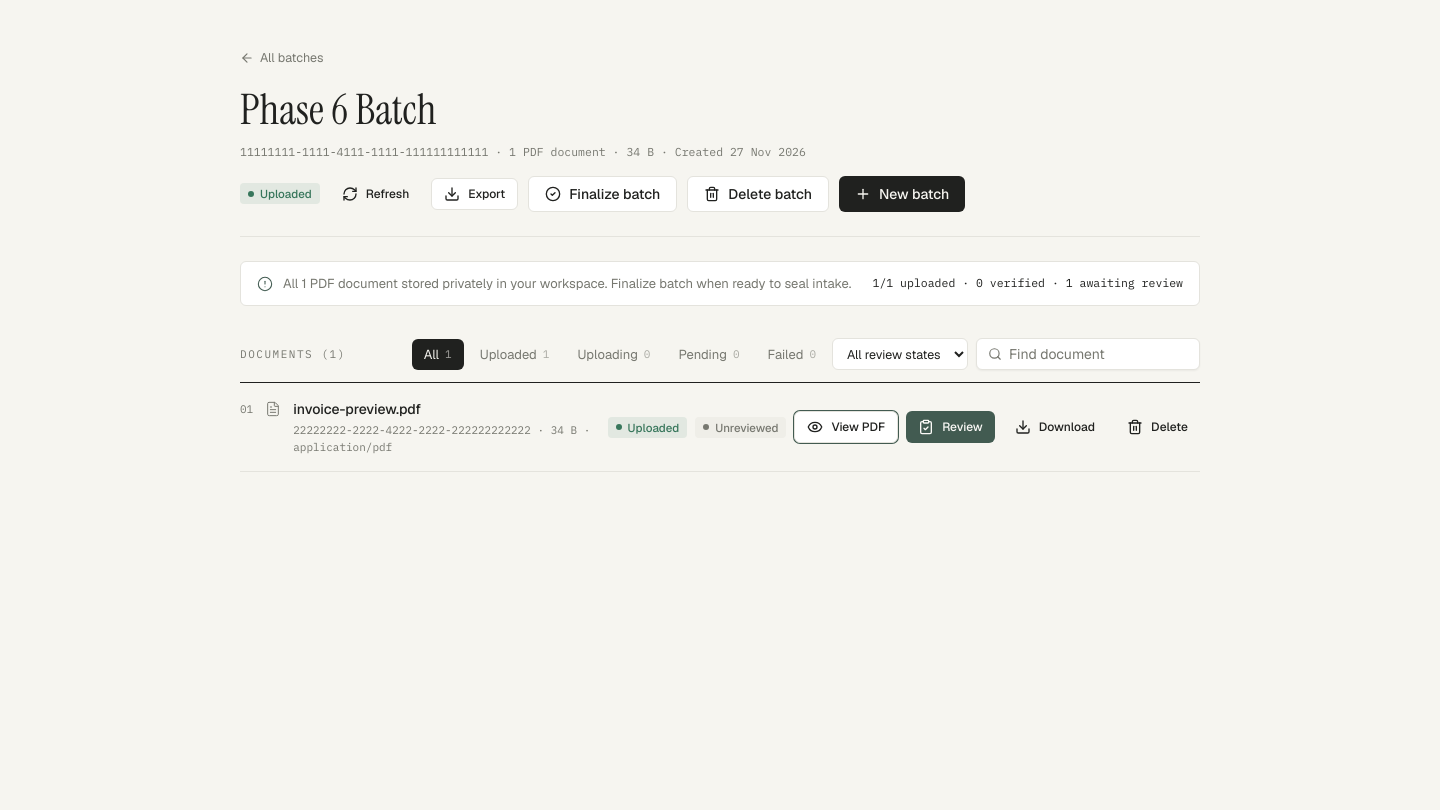
Test: Phase 6 — Document access UI (preview, unavailable recovery, search, single delete, focus) › opens inline PDF preview modal, handles missing/unavailable B2 objects cleanly with Retry, and restores focus
The image size is (1440, 810).
Later steps or results of the test are not shown.
Step 1. Click the button with aria-label "View invoice-preview.pdf" → (846, 427), box [794,411,898,443]
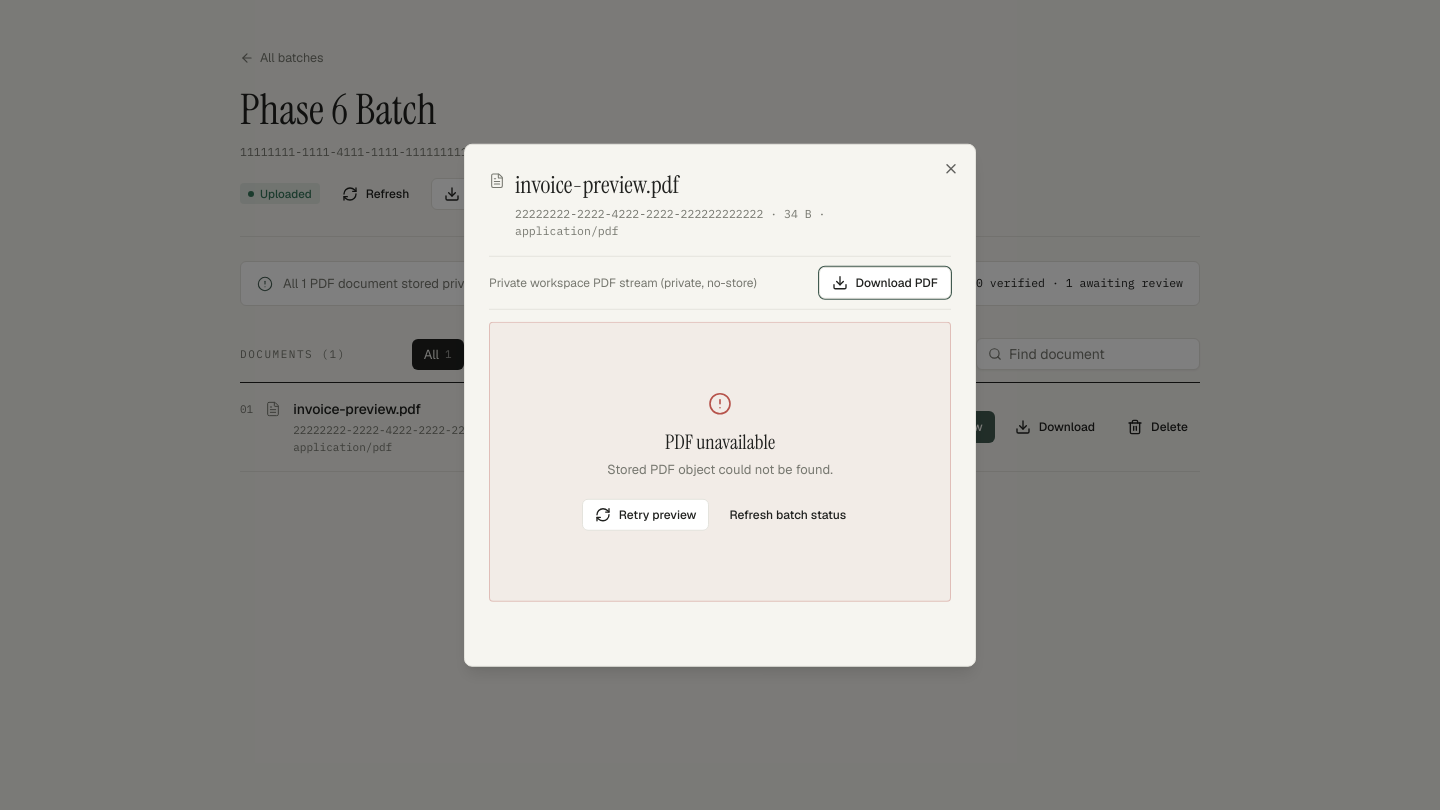
Expected: the text "PDF unavailable" is shown, [665,428,775,454]
Expected: the text "Stored PDF object could not be found." is shown, [607,460,833,479]
